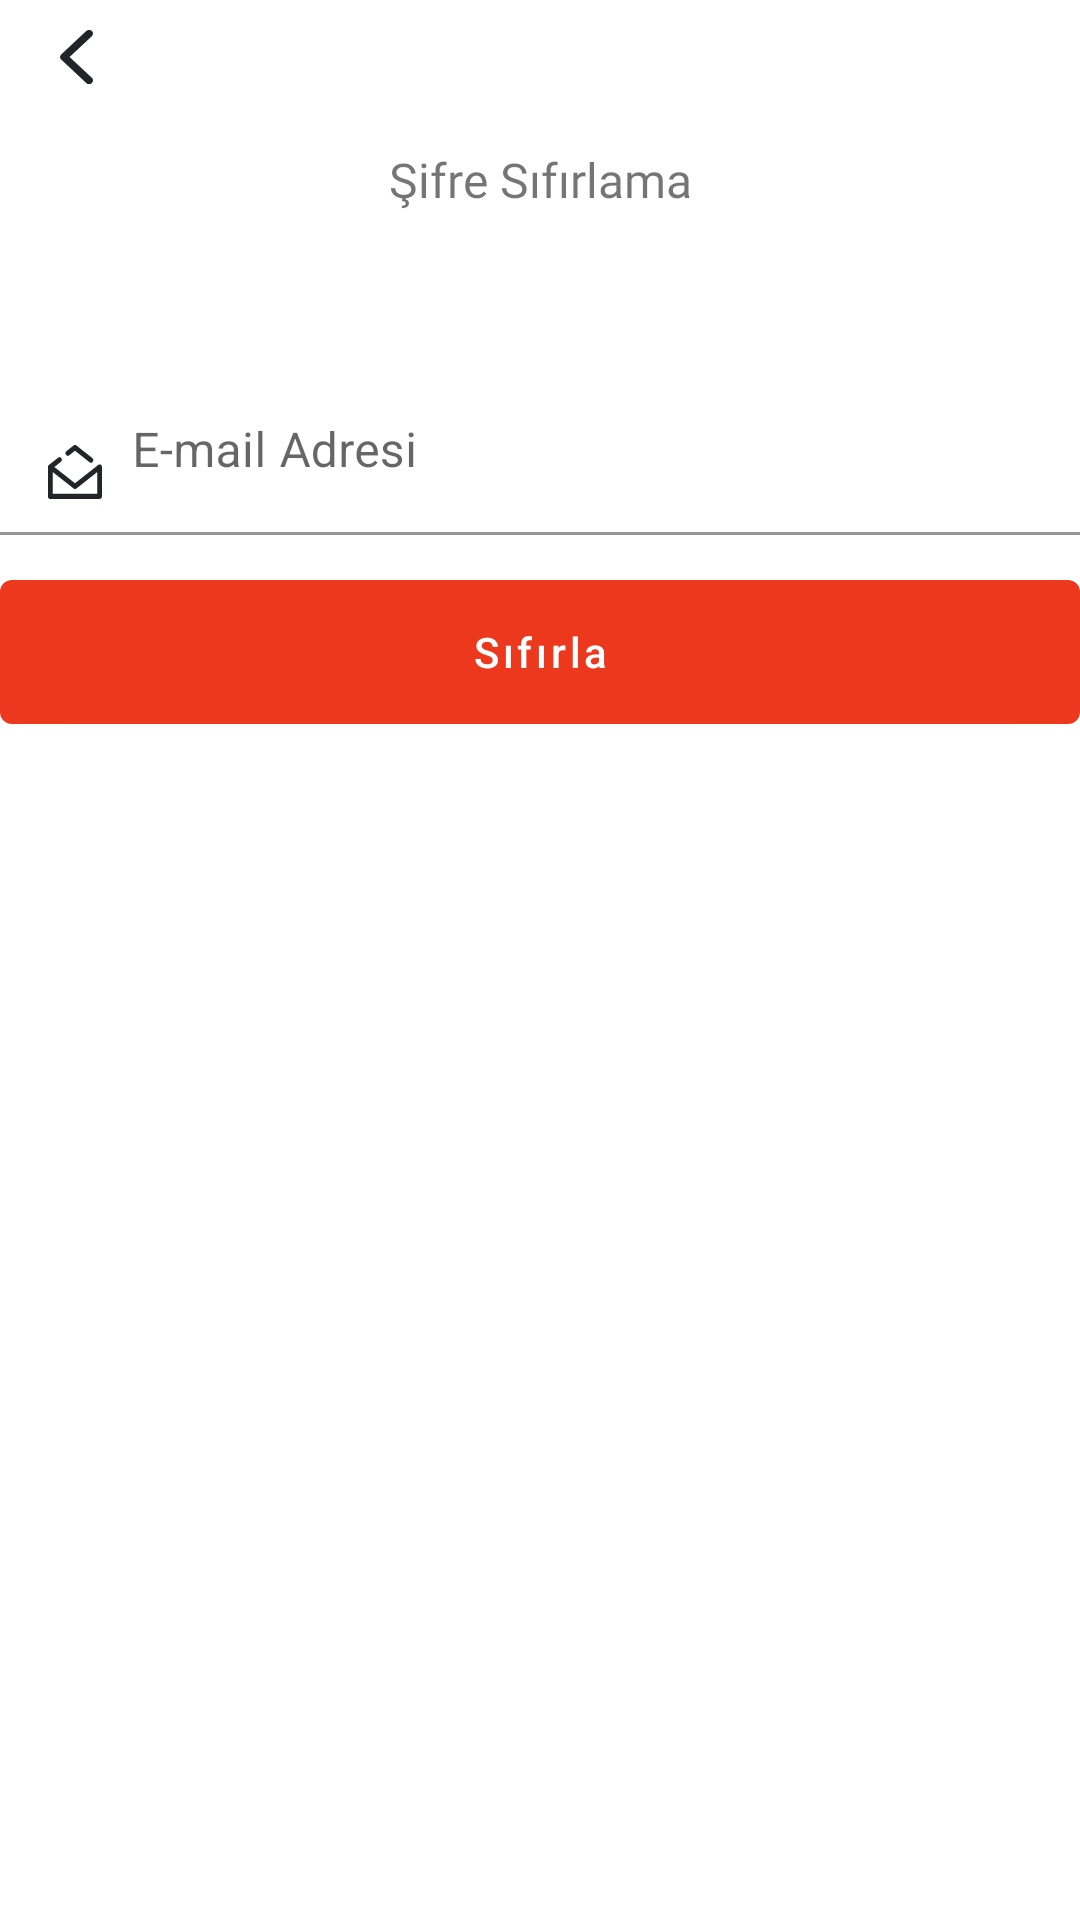

Icons on this 1080 x 1920 Android screen, each with the point to tap as point (x, y):
back: point (76, 57)
